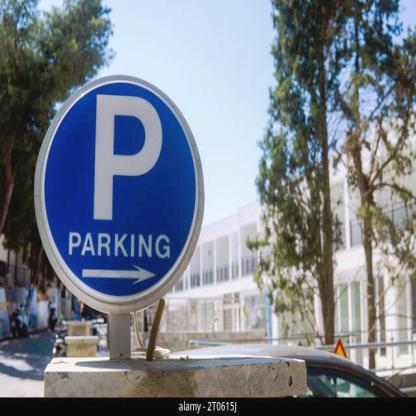Parking: (88, 87, 166, 227)
